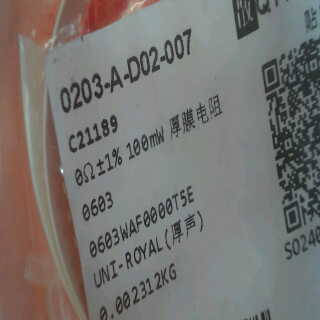0R: (71, 143, 126, 231)
